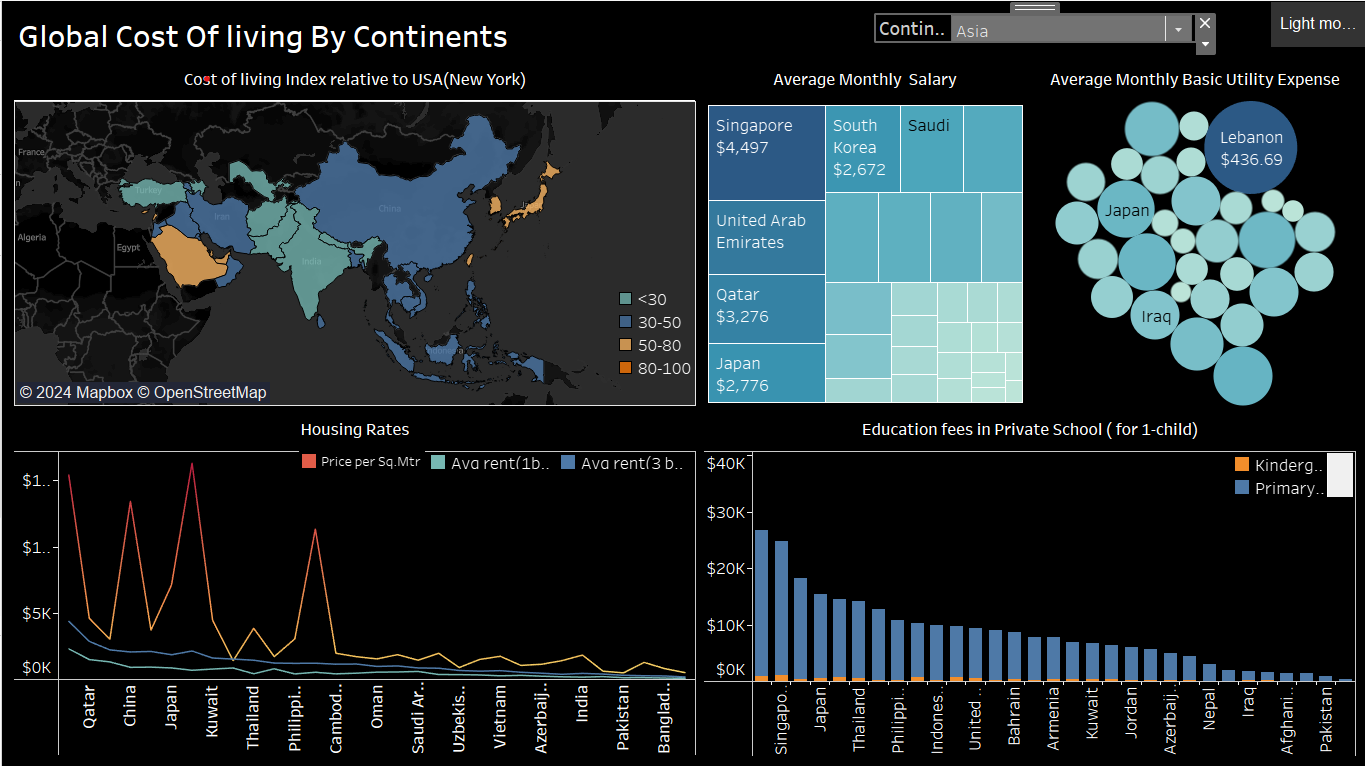

This screenshot's page, from the dashboard's own definition file:
{"tool":"tableau","page":{"name":"Dashboard Dark","canvas":[1366,768],"ordinal":1},"visuals":[{"type":"dashboard-object","box":[1269,1,97,45]},{"type":"title","box":[8,8,1350,51]},{"type":"filter","title":"Cost of living Dark","param":"[federated.1rff4ri1eym9k010raxv40fk5l0r].[none:Continent:nk]","box":[874,14,319,26]},{"type":"worksheet","title":"Cost of living Dark","mark":"Multipolygon","box":[8,59,690,350]},{"type":"worksheet","title":"Salary Dark","mark":"Automatic","box":[698,59,330.5,350.5]},{"type":"worksheet","title":"Basic Utilities Dark","mark":"Circle","box":[1028.5,59,329.5,350.5]},{"type":"legend","title":"Cost of living Dark","param":"[federated.1rff4ri1eym9k010raxv40fk5l0r].[none:Calculation_1739796849371828236:n","box":[612,286,140,119]},{"type":"worksheet","title":"Housing rate Dark","mark":"Line","rows":["Calculation_1435240927654227970"],"cols":["Country"],"box":[8,409,690,351]},{"type":"worksheet","title":"Education Expense Dark","mark":"Bar","rows":["International Primary School, Yearly for 1 Child (USD)","Preschool (or Kindergarten), Full Day, Private, Monthly for "],"cols":["Country"],"box":[698,409.5,660,350.5]},{"type":"image","param":"Image/Screenshot 2023-04-28 153215.png","box":[297,450,126,18]},{"type":"legend","title":"Housing rate Dark","param":"[federated.1rff4ri1eym9k010raxv40fk5l0r].[:Measure Names]","box":[353,450,385,18]},{"type":"legend","title":"Education Expense Dark","param":"[federated.1rff4ri1eym9k010raxv40fk5l0r].[:Measure Names]","box":[1229,452,124,44]}]}

Visuals, with their boxes on the page's 1366x768 design canvas (x1, y1, x2, y2). These are canvas units, not pixel positions in the 1365x766 screenshot, which may show the page scaled, cropped or inside an application window:
dashboard-object: (x1=1269, y1=1, x2=1366, y2=46)
title: (x1=8, y1=8, x2=1358, y2=59)
"Cost of living Dark" filter: (x1=874, y1=14, x2=1193, y2=40)
"Cost of living Dark" worksheet (Multipolygon marks): (x1=8, y1=59, x2=698, y2=409)
"Salary Dark" worksheet: (x1=698, y1=59, x2=1028, y2=410)
"Basic Utilities Dark" worksheet (Circle marks): (x1=1028, y1=59, x2=1358, y2=410)
"Cost of living Dark" legend: (x1=612, y1=286, x2=752, y2=405)
"Housing rate Dark" worksheet (Line marks): (x1=8, y1=409, x2=698, y2=760)
"Education Expense Dark" worksheet (Bar marks): (x1=698, y1=410, x2=1358, y2=760)
image: (x1=297, y1=450, x2=423, y2=468)
"Housing rate Dark" legend: (x1=353, y1=450, x2=738, y2=468)
"Education Expense Dark" legend: (x1=1229, y1=452, x2=1353, y2=496)
